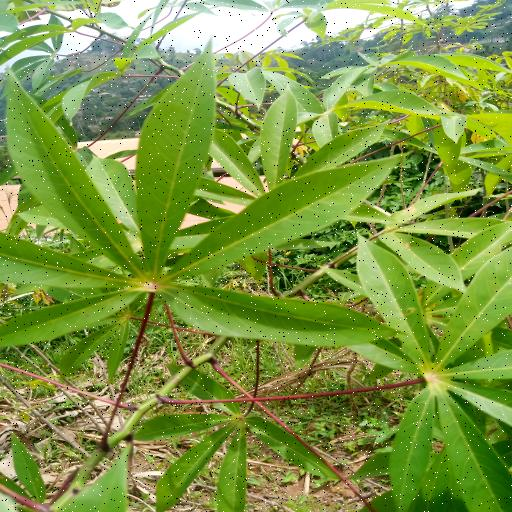Cassava_Healthy: (1, 58, 405, 363)
